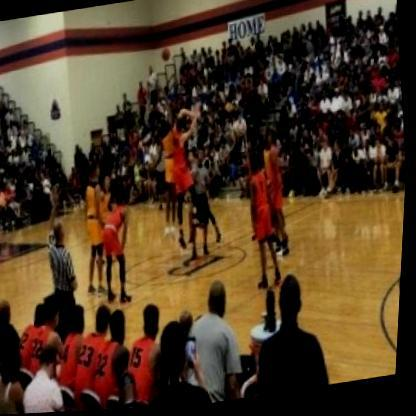basketball: (159, 47, 173, 65)
